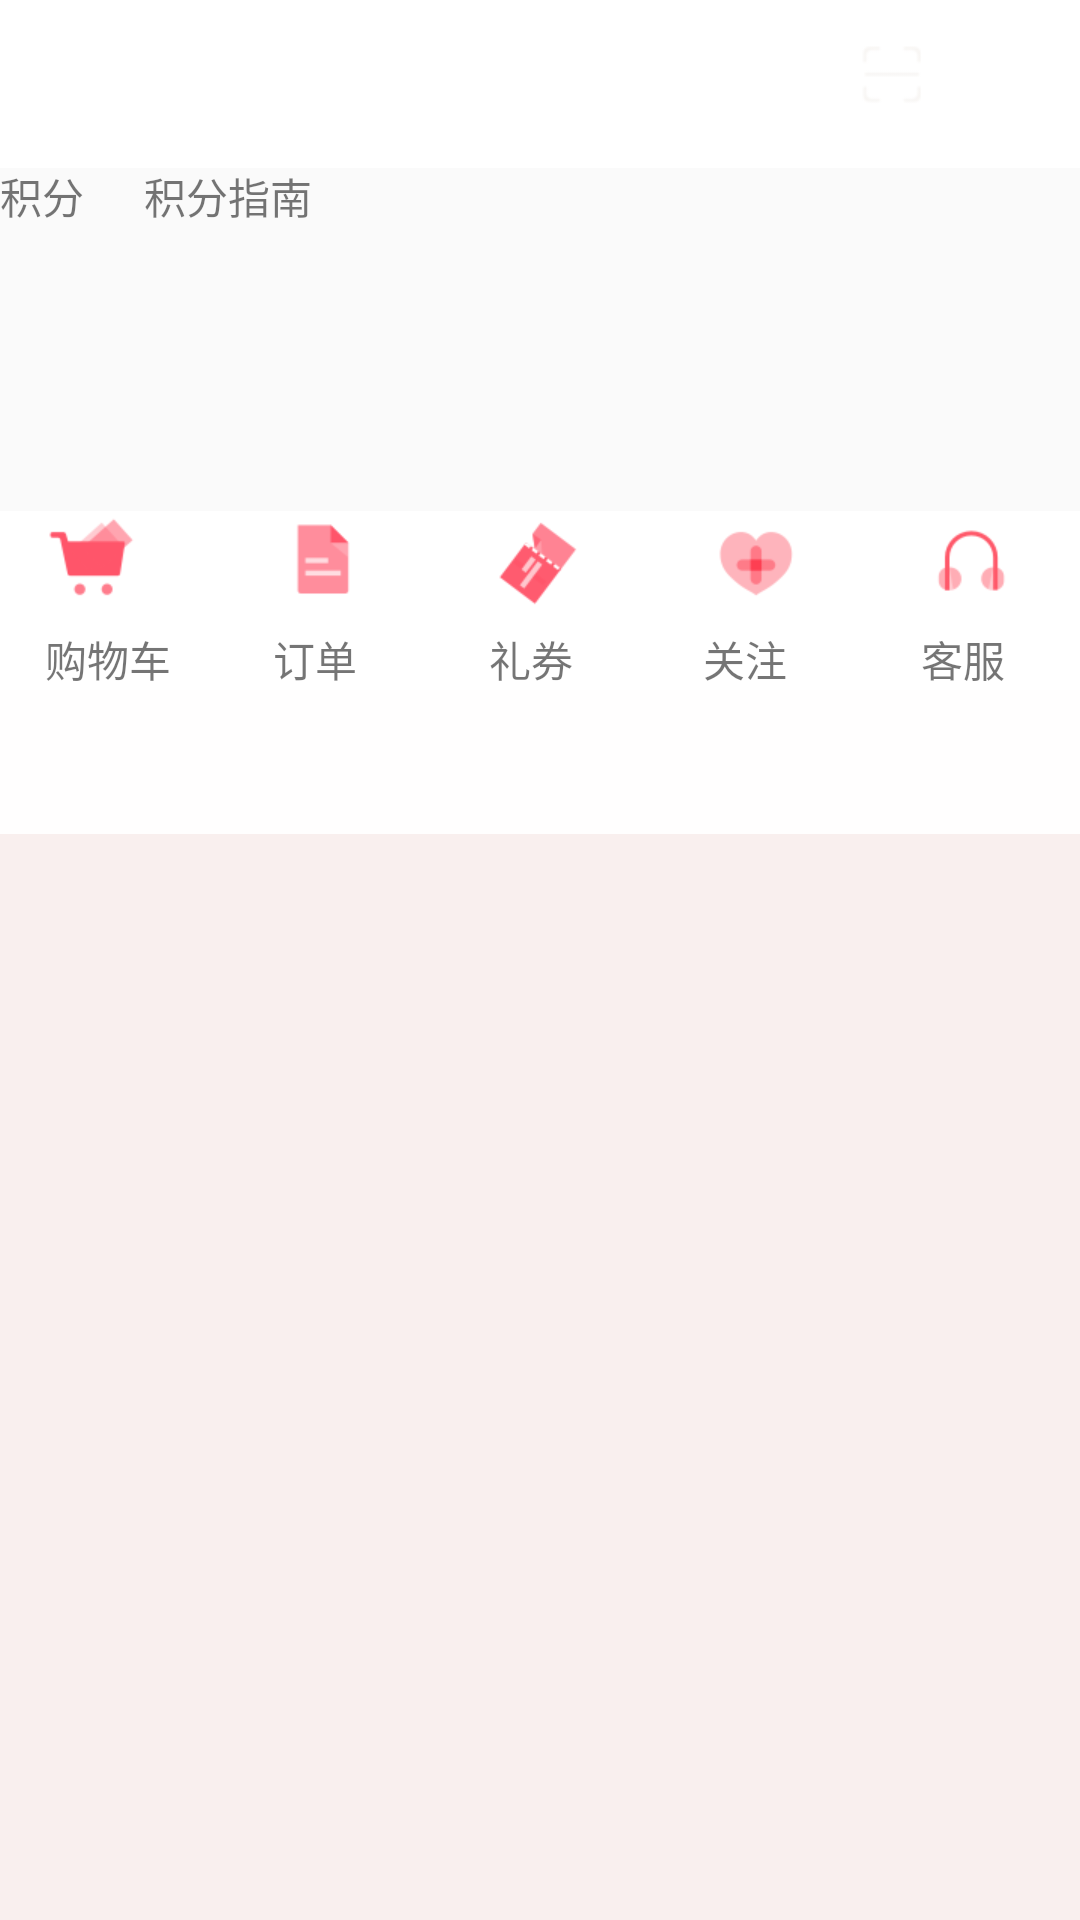

Locate icon controls on the screen. Image size 1080x1920, boxes as (x1, y1, x2, y2).
cart: (49, 519, 132, 595)
coupon: (500, 523, 576, 604)
follow: (720, 532, 792, 595)
order: (297, 524, 349, 594)
service: (938, 530, 1004, 591)
